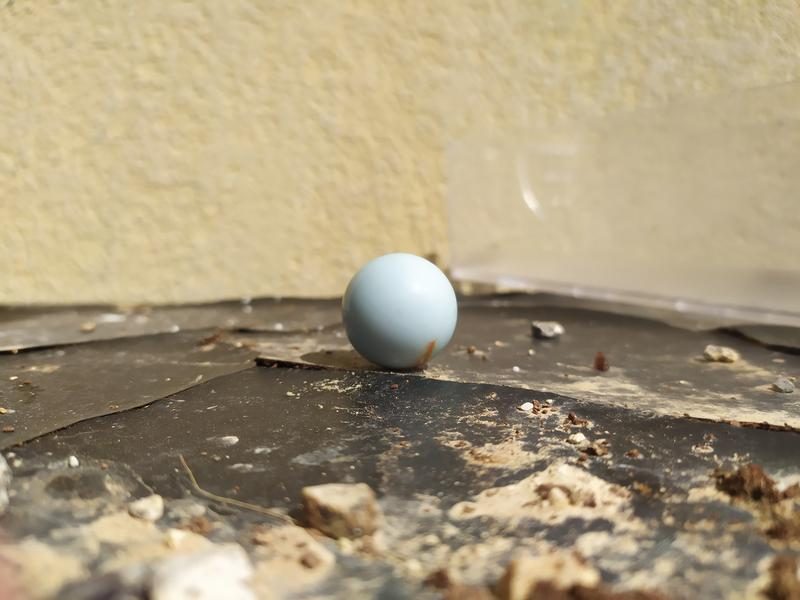Warning: (339, 248, 462, 374)
